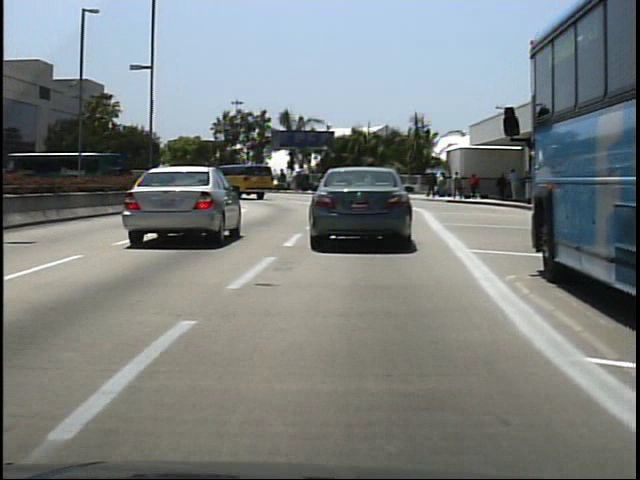person: (466, 169, 484, 202), (506, 165, 522, 202), (494, 170, 510, 202), (451, 169, 466, 201), (222, 168, 238, 193), (426, 170, 440, 198)
